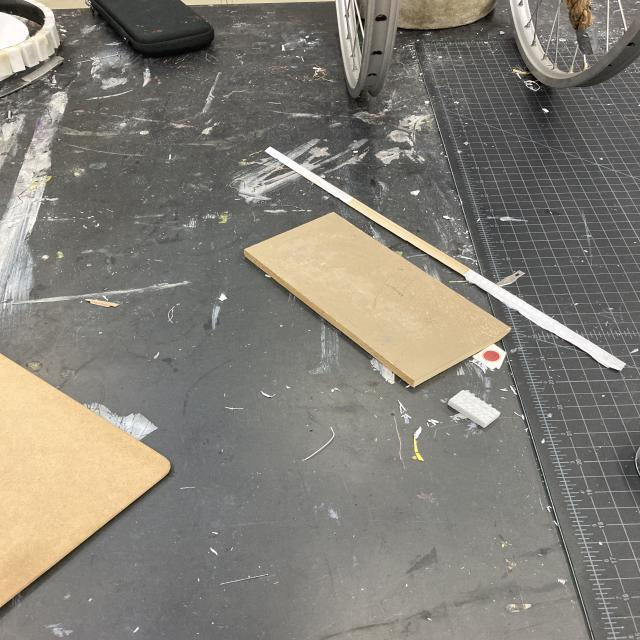cardboard: (226, 211, 518, 391)
trash-zQNu: (227, 212, 520, 392)
